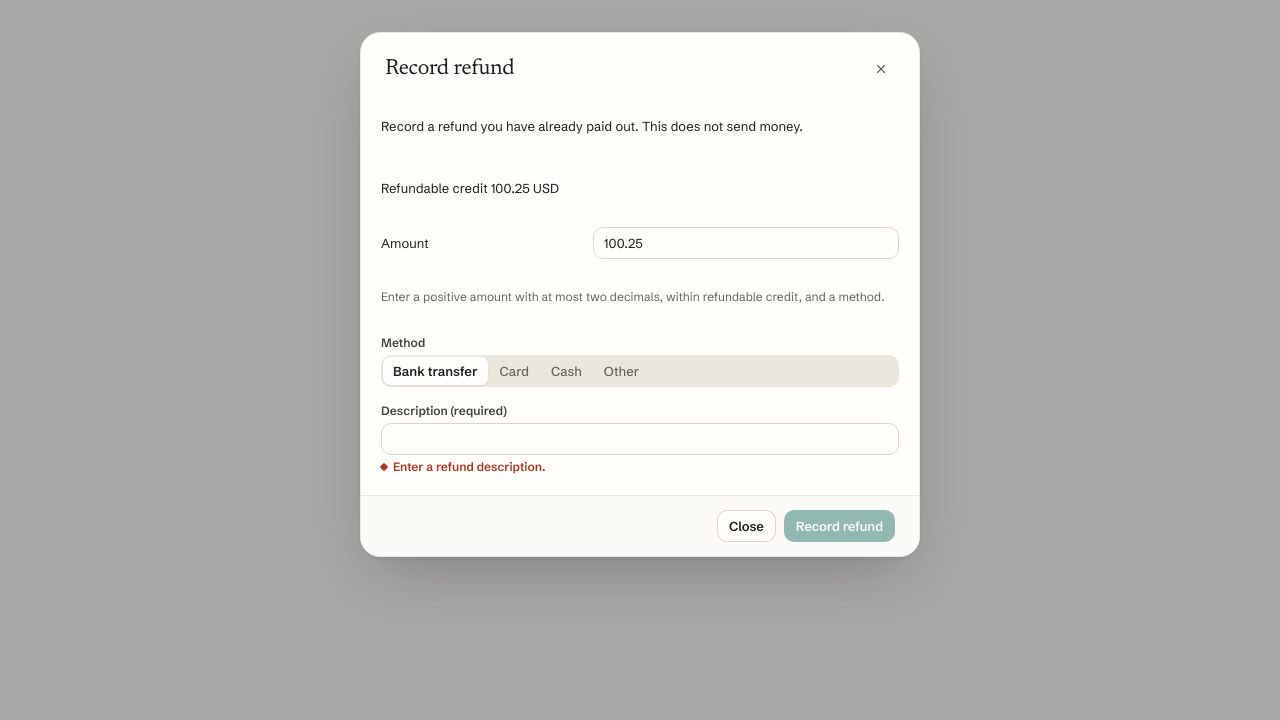
Test: refunds › keeps fields after a credit conflict and refreshes the refundable limit
Type "Returned deposit" into the field labelled "refund description". click: (640, 439)
box: [381,423,899,455]
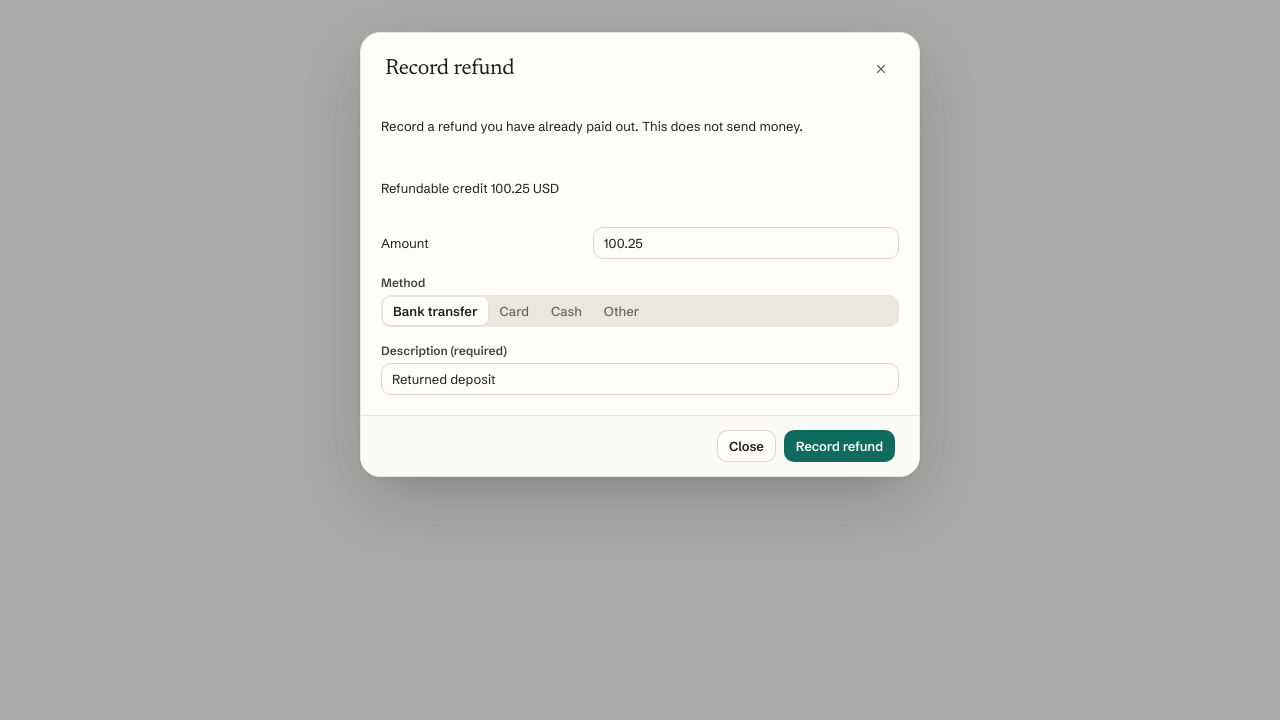
Click the button "Record refund". click: click(839, 446)
box: [784,430,895,462]
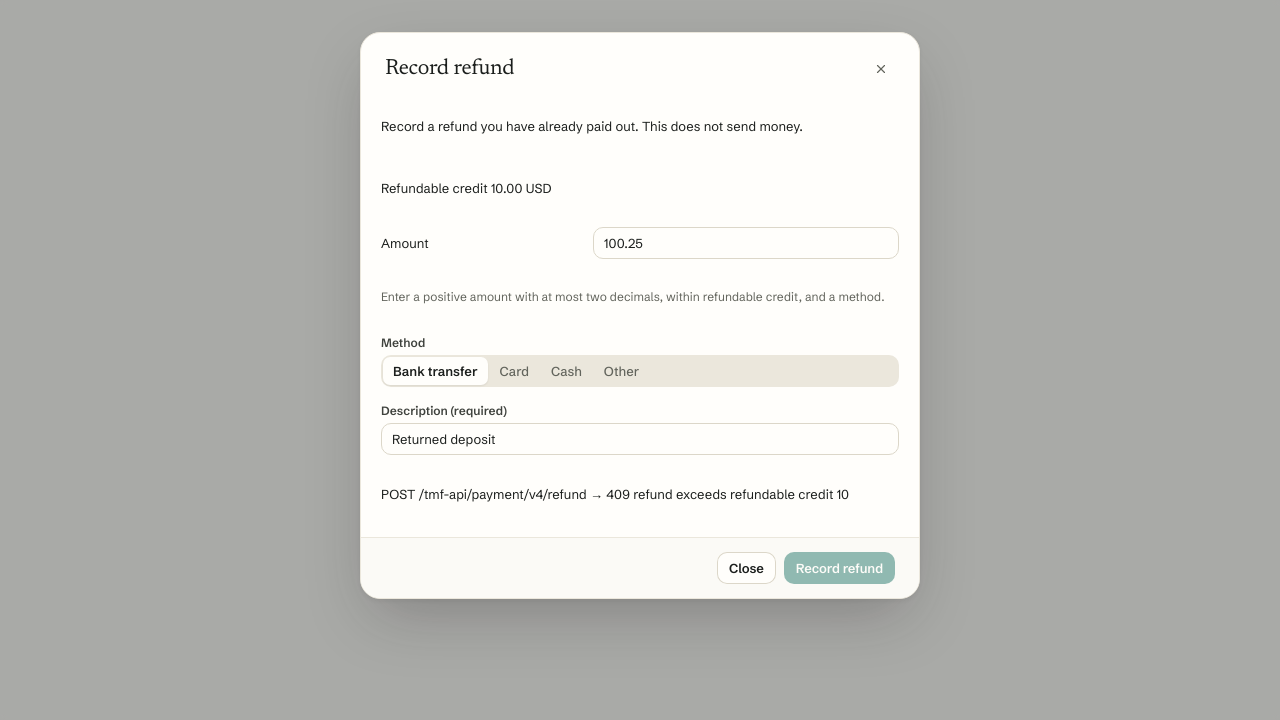
expect the field named "Refund amount" holds "100.25": met, box [593,227,899,259]
expect the text "Refundable credit 10.00 USD" is shown: met, box [381,180,552,196]
expect the button "Record refund" is disabled: met, box [784,552,895,584]
